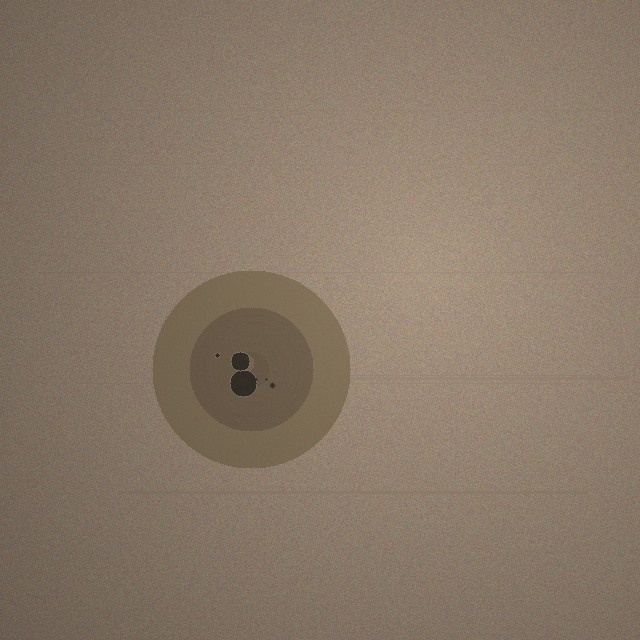shrinkage: (152, 270, 350, 468)
